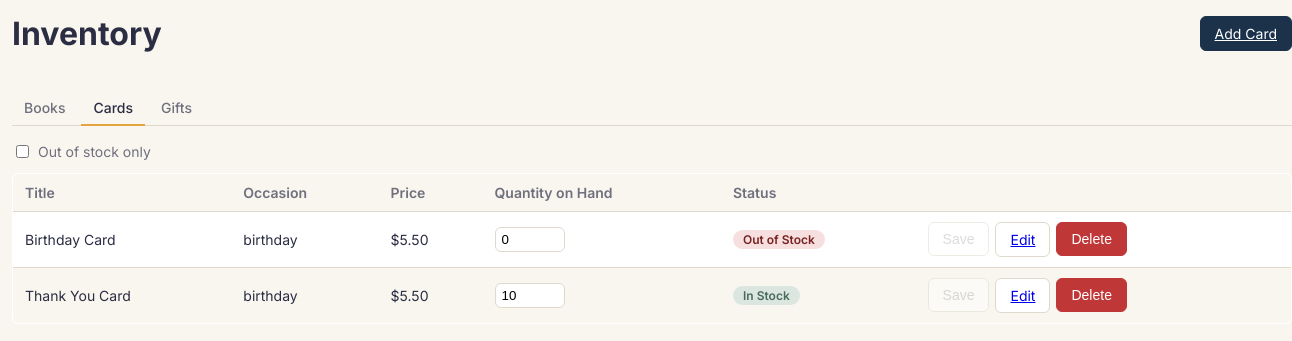
Scenario: CardsInventoryPage › filters to out-of-stock only
The image size is (1292, 341).
Expected: the text "Birthday Card" is shown, [12,211,231,267]
Step 1. Click the checkbox labelled "Out of stock only" → (22, 151), box [16,145,29,158]
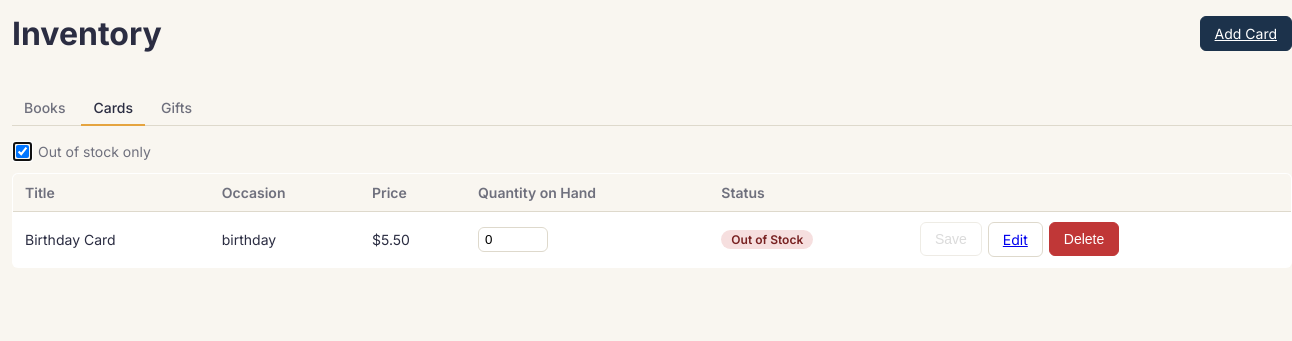
Expected: the text "Birthday Card" is shown, [12,211,210,267]
Result: the text "Thank You Card" is gone
